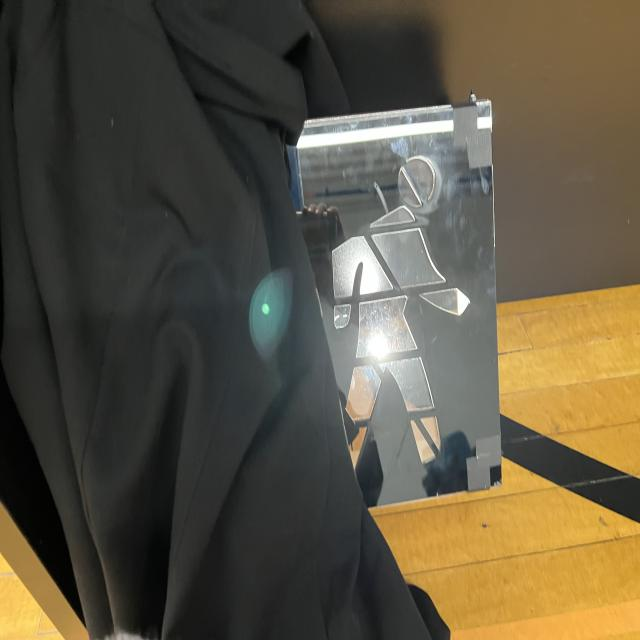go: (298, 127, 504, 490)
